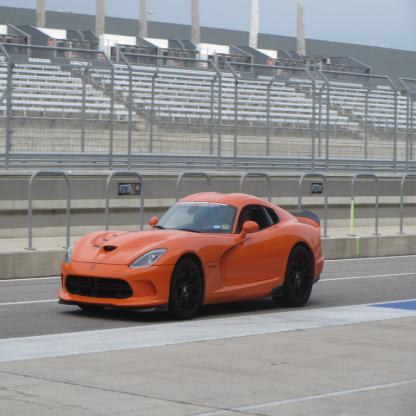Car: (60, 186, 324, 320)
